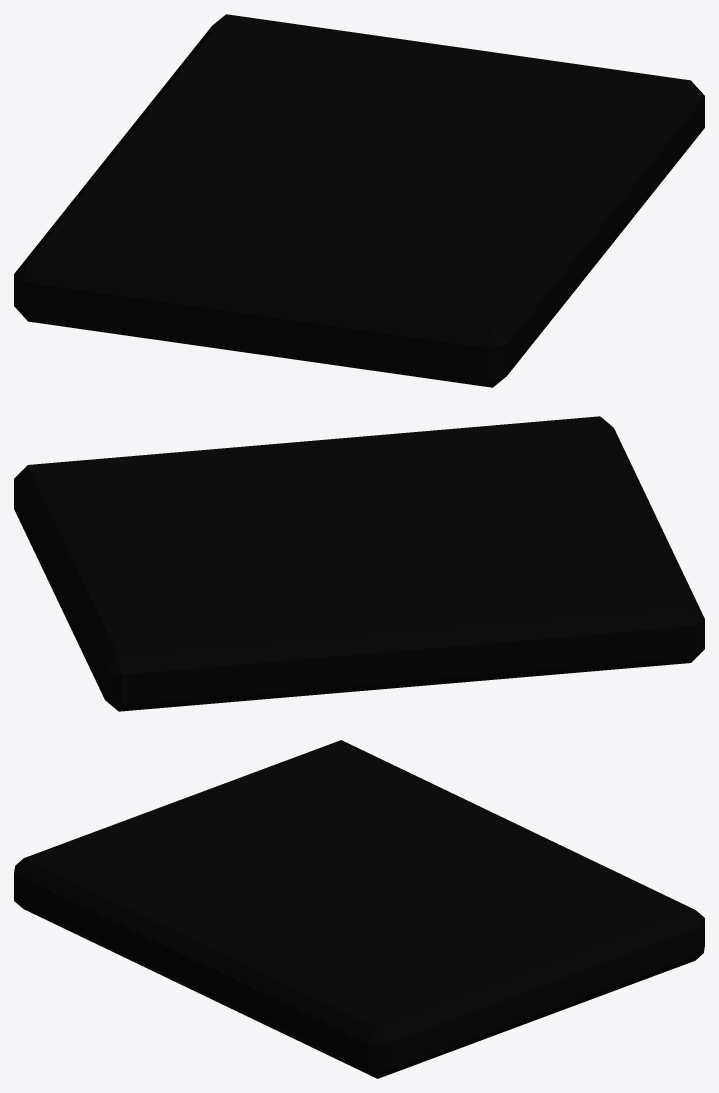
Rendered from ipad.fbx.
3 views of the same model, one above another, from view 1: azimuth 30°, elevation 25°; view 2: azimuth 150°, elevation 25°; view 3: azimuth 270°, elevation 25° (orthographic). The views are drawn at different scales.
Parts seen in each view (by area): view 1: Cube; view 2: Cube; view 3: Cube.
Boxes of the visible parts, bbox=[...] form: Cube: bbox=[14, 14, 704, 387]; Cube: bbox=[14, 416, 704, 711]; Cube: bbox=[14, 740, 704, 1078].
Bounding box in the file's own units: 37.47 × 3 × 36.93.
